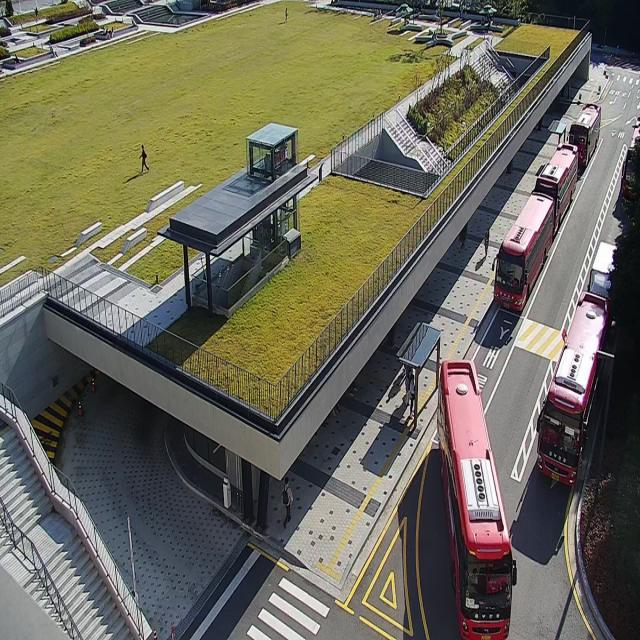queue: (413, 333, 441, 425)
